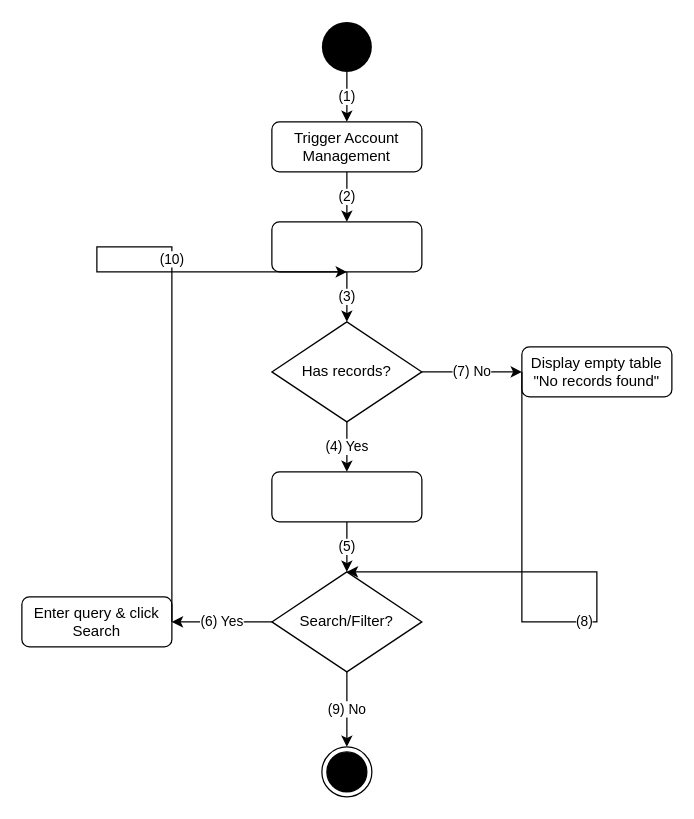
Image size: 694x819. Some labels were removed from this diagram. The shapes that lost their labels are listed below. From the top down, each one's centre as x and y in pixels, then its label:
At (x=346, y=246): "Fetch accounts from DB".
At (x=346, y=496): "Display paginated data table".
